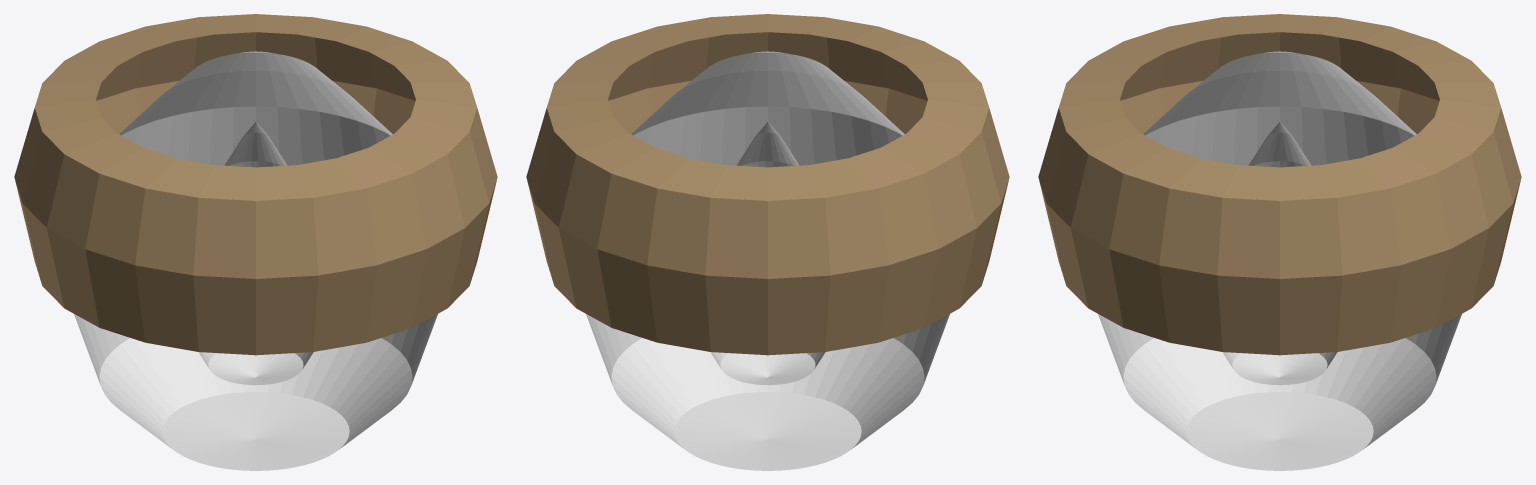
File: smoke.glb
3 renders of one model, left to right at view 1: azimuth 30°, elevation 25°; view 2: azimuth 150°, elevation 25°; view 3: azimuth 270°, elevation 25°, orthographic.
Parts seen in each view (by area): view 1: arc, arc_01, bell, arc_02, core; view 2: arc, bell, arc_01, arc_02, core; view 3: arc, arc_01, bell, arc_02, core.
Part boxes in pixels (x1,y1,x2,y2): arc: (14, 14, 493, 355); arc_01: (27, 14, 497, 354); bell: (74, 51, 437, 470); arc_02: (21, 14, 489, 351); core: (198, 122, 313, 385); arc: (540, 14, 1009, 355); bell: (586, 51, 949, 470); arc_01: (533, 14, 998, 352); arc_02: (526, 15, 983, 354); core: (710, 122, 825, 385); arc: (1044, 14, 1513, 354); arc_01: (1038, 14, 1515, 355); bell: (1098, 51, 1461, 470); arc_02: (1055, 16, 1521, 354); core: (1222, 122, 1337, 385).
Size of the model in its own units: 2.84 by 2.48 by 2.84.
